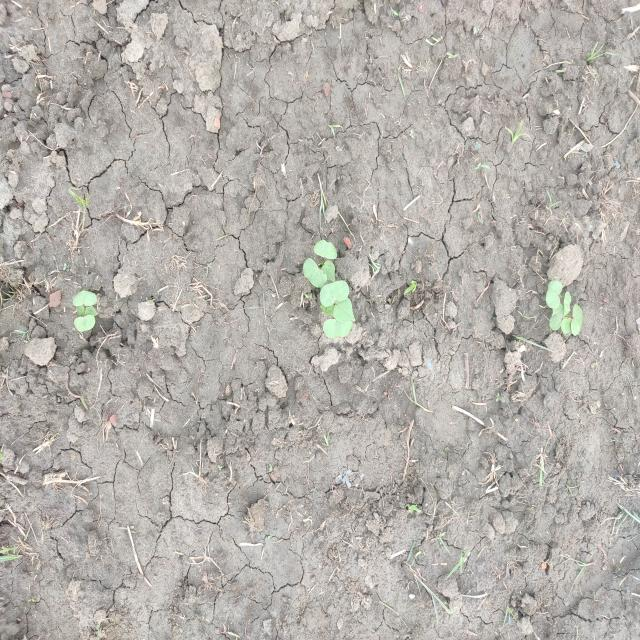seedling_s4: (320, 280, 349, 307), (303, 258, 327, 288), (333, 297, 356, 323), (323, 319, 352, 338), (546, 280, 562, 309), (313, 240, 337, 259), (74, 314, 95, 332), (549, 306, 564, 331), (73, 290, 96, 306), (571, 304, 582, 336), (321, 260, 335, 282), (561, 316, 573, 335), (564, 291, 571, 316), (320, 304, 334, 316), (85, 305, 99, 316), (552, 303, 563, 316), (76, 306, 85, 316)
